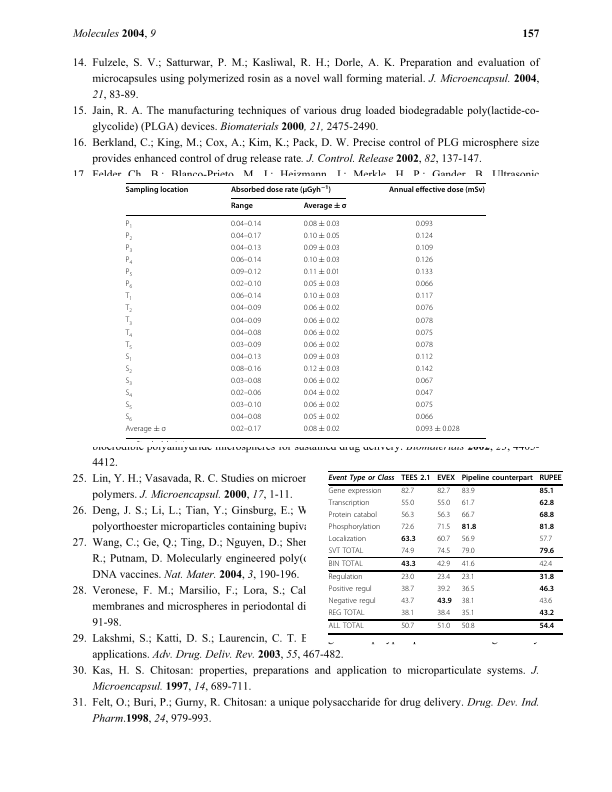borderless: (124, 181, 486, 438), (327, 470, 562, 633)
cell: (230, 184, 332, 195), (388, 185, 486, 195), (461, 474, 534, 483), (125, 185, 189, 195), (328, 474, 395, 483), (328, 487, 382, 497), (328, 523, 381, 533), (328, 511, 378, 521), (328, 597, 377, 607), (328, 585, 373, 595), (303, 201, 347, 211), (328, 499, 370, 509), (415, 425, 461, 434), (328, 535, 367, 545), (124, 425, 167, 434), (303, 219, 341, 229), (303, 231, 341, 241), (303, 340, 341, 350), (303, 352, 341, 362), (328, 609, 365, 619), (328, 560, 364, 570), (328, 573, 364, 583), (303, 244, 341, 253), (303, 256, 341, 265), (303, 268, 341, 277), (303, 280, 341, 289), (303, 292, 341, 301), (303, 304, 341, 313), (303, 316, 341, 325), (303, 328, 341, 337), (303, 365, 341, 374), (303, 377, 341, 386), (303, 389, 341, 398), (303, 401, 341, 410), (303, 413, 341, 422), (303, 425, 341, 434), (328, 623, 365, 632), (328, 547, 364, 556), (230, 219, 262, 229), (230, 231, 262, 241), (230, 340, 262, 350), (230, 352, 262, 362), (230, 244, 262, 253), (230, 256, 262, 265), (230, 268, 262, 277), (230, 280, 262, 289), (230, 292, 262, 301), (230, 304, 262, 313), (230, 316, 262, 325), (230, 328, 262, 337), (230, 365, 262, 374), (230, 377, 262, 386), (230, 389, 262, 398), (230, 401, 262, 410), (230, 413, 262, 422), (230, 425, 262, 434), (400, 474, 431, 483), (230, 201, 254, 211), (538, 474, 563, 483), (415, 219, 434, 229), (415, 231, 434, 241), (415, 340, 434, 350), (415, 352, 434, 362), (436, 474, 456, 483), (415, 244, 434, 253), (415, 256, 434, 265), (415, 268, 434, 277), (415, 280, 434, 289), (415, 292, 434, 301), (415, 304, 434, 313), (415, 316, 434, 325), (415, 328, 434, 337), (415, 365, 434, 374), (415, 377, 434, 386), (415, 389, 434, 398), (415, 401, 434, 410), (415, 413, 434, 422), (538, 573, 555, 583), (538, 585, 555, 595), (436, 597, 453, 607), (538, 609, 555, 619), (538, 487, 555, 496), (538, 499, 555, 508), (538, 511, 555, 520), (538, 523, 555, 532), (400, 535, 417, 544), (538, 547, 555, 556), (400, 560, 417, 569), (538, 623, 555, 632), (400, 487, 415, 497), (436, 487, 451, 497), (400, 499, 415, 509), (436, 499, 451, 509), (400, 511, 415, 521), (436, 511, 451, 521), (400, 523, 415, 533), (436, 523, 451, 533), (436, 535, 451, 545), (538, 535, 553, 545), (436, 560, 451, 570), (538, 560, 553, 570), (400, 573, 415, 583), (436, 573, 451, 583), (400, 585, 415, 595), (436, 585, 451, 595), (400, 597, 415, 607), (538, 597, 553, 607), (400, 609, 415, 619), (436, 609, 451, 619), (461, 523, 477, 532), (461, 487, 475, 497), (461, 499, 475, 509), (461, 511, 475, 521), (461, 535, 475, 545), (461, 560, 475, 570), (461, 573, 475, 583), (461, 585, 475, 595), (461, 597, 475, 607), (461, 609, 475, 619), (400, 547, 415, 556), (436, 547, 451, 556), (400, 623, 415, 632), (436, 623, 451, 632), (461, 547, 475, 556), (461, 623, 475, 632), (124, 292, 133, 303), (124, 304, 133, 315), (124, 316, 133, 327), (124, 328, 133, 339), (124, 340, 133, 351), (124, 352, 133, 363), (124, 401, 133, 412), (124, 413, 133, 424), (124, 365, 133, 375), (124, 377, 133, 387), (124, 389, 133, 399), (125, 219, 133, 230), (125, 231, 133, 242), (125, 280, 133, 291), (125, 244, 133, 254), (125, 256, 133, 266), (125, 268, 133, 278)
